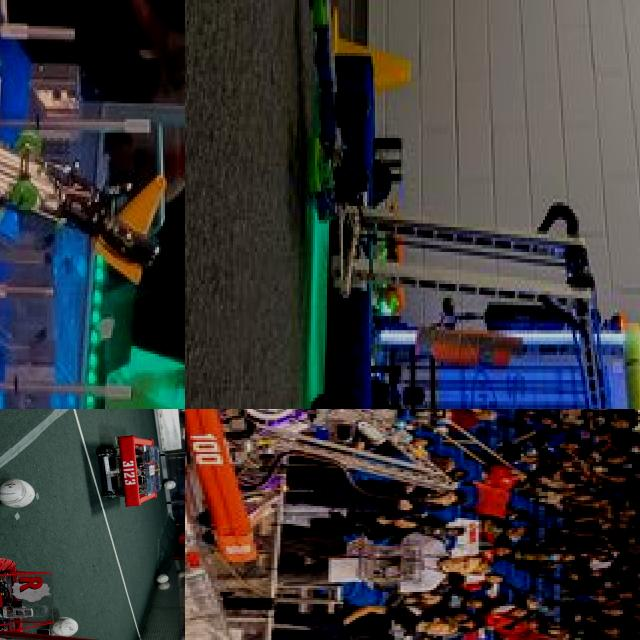FRC-Robots: (282, 0, 640, 409), (0, 0, 185, 404), (185, 409, 478, 583), (0, 556, 185, 640), (86, 424, 172, 510)
